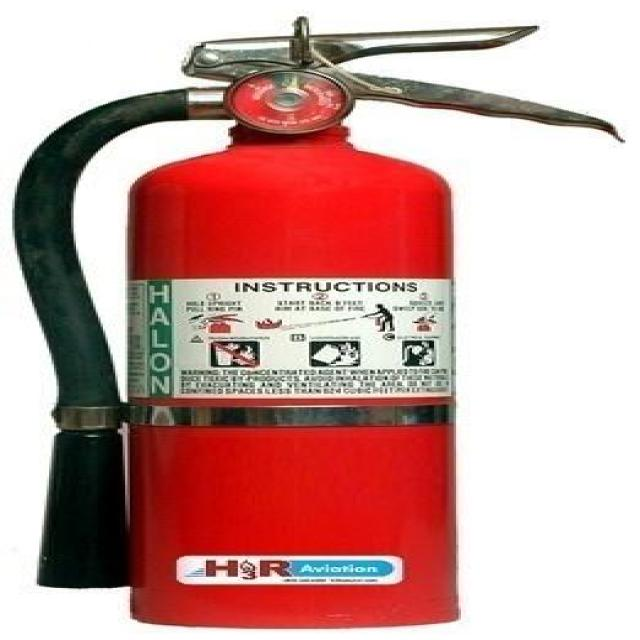fire_extinguisher: (0, 12, 628, 634)
